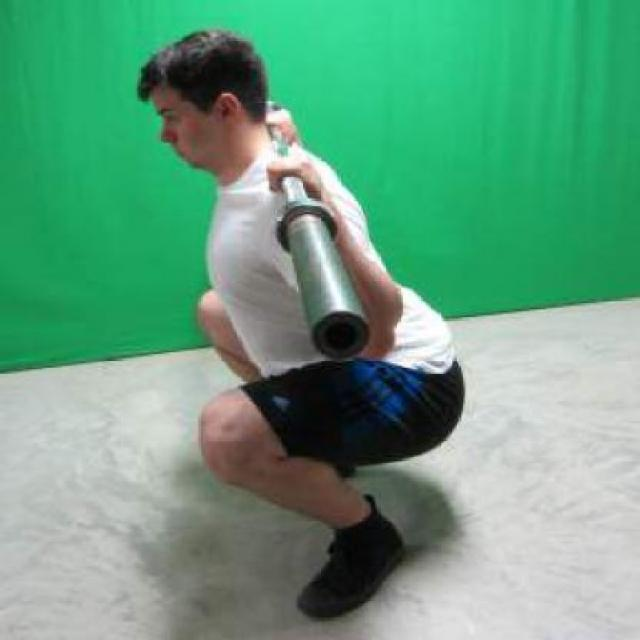Barbell: (306, 308, 376, 363)
